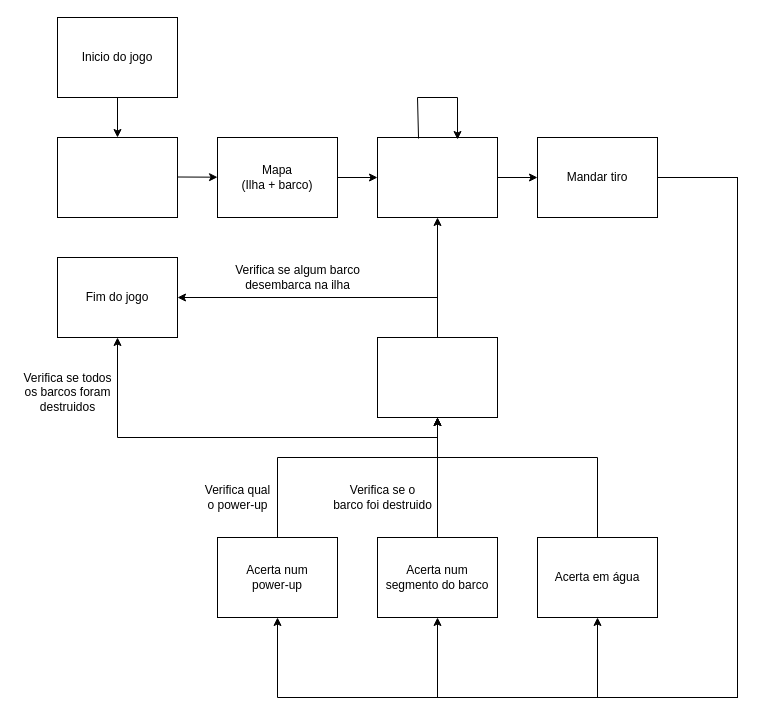
Some shapes in this 763 by 723 pixel diagram are drawn without their labels. Here are the shapes that lost their labels. From the top down, the centre of each, then its label:
At point (117, 177): "Selecionar dificuldade".
At point (437, 177): "Movimentar mira".
At point (437, 377): "Movimentar barco".
